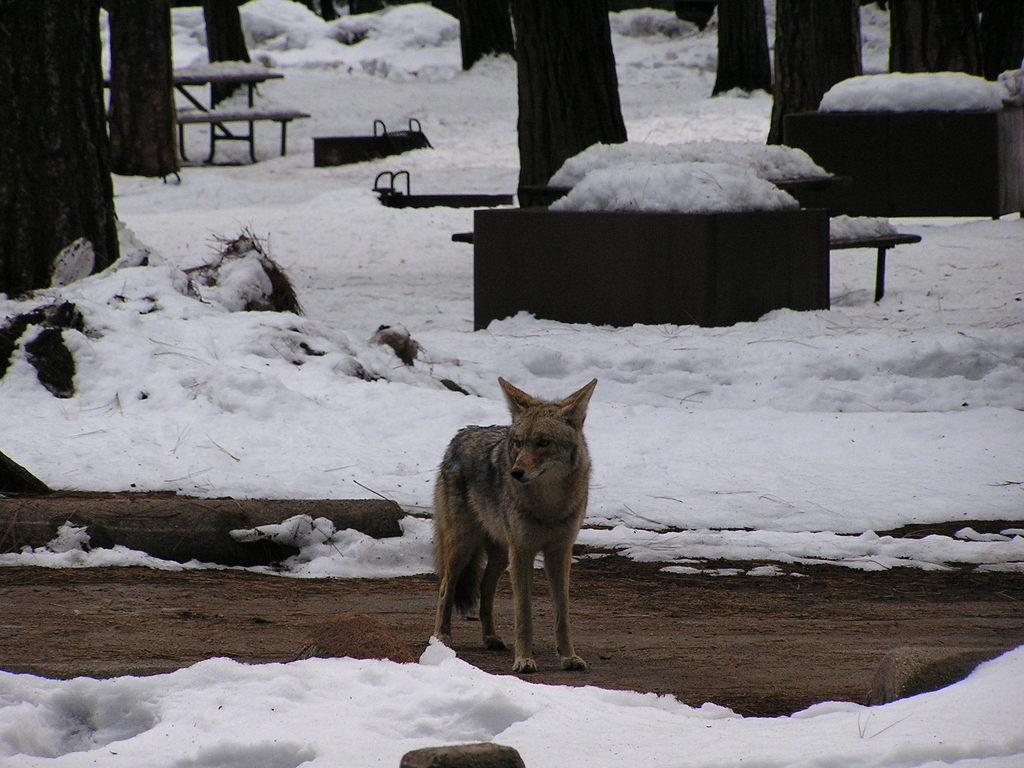Coyote: (427, 379, 601, 678)
